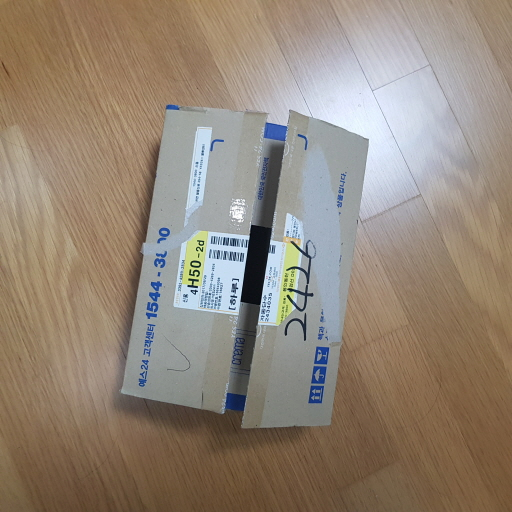Paper_0: (114, 98, 371, 451)
